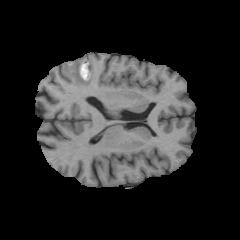glioma: (59, 54, 93, 86)
